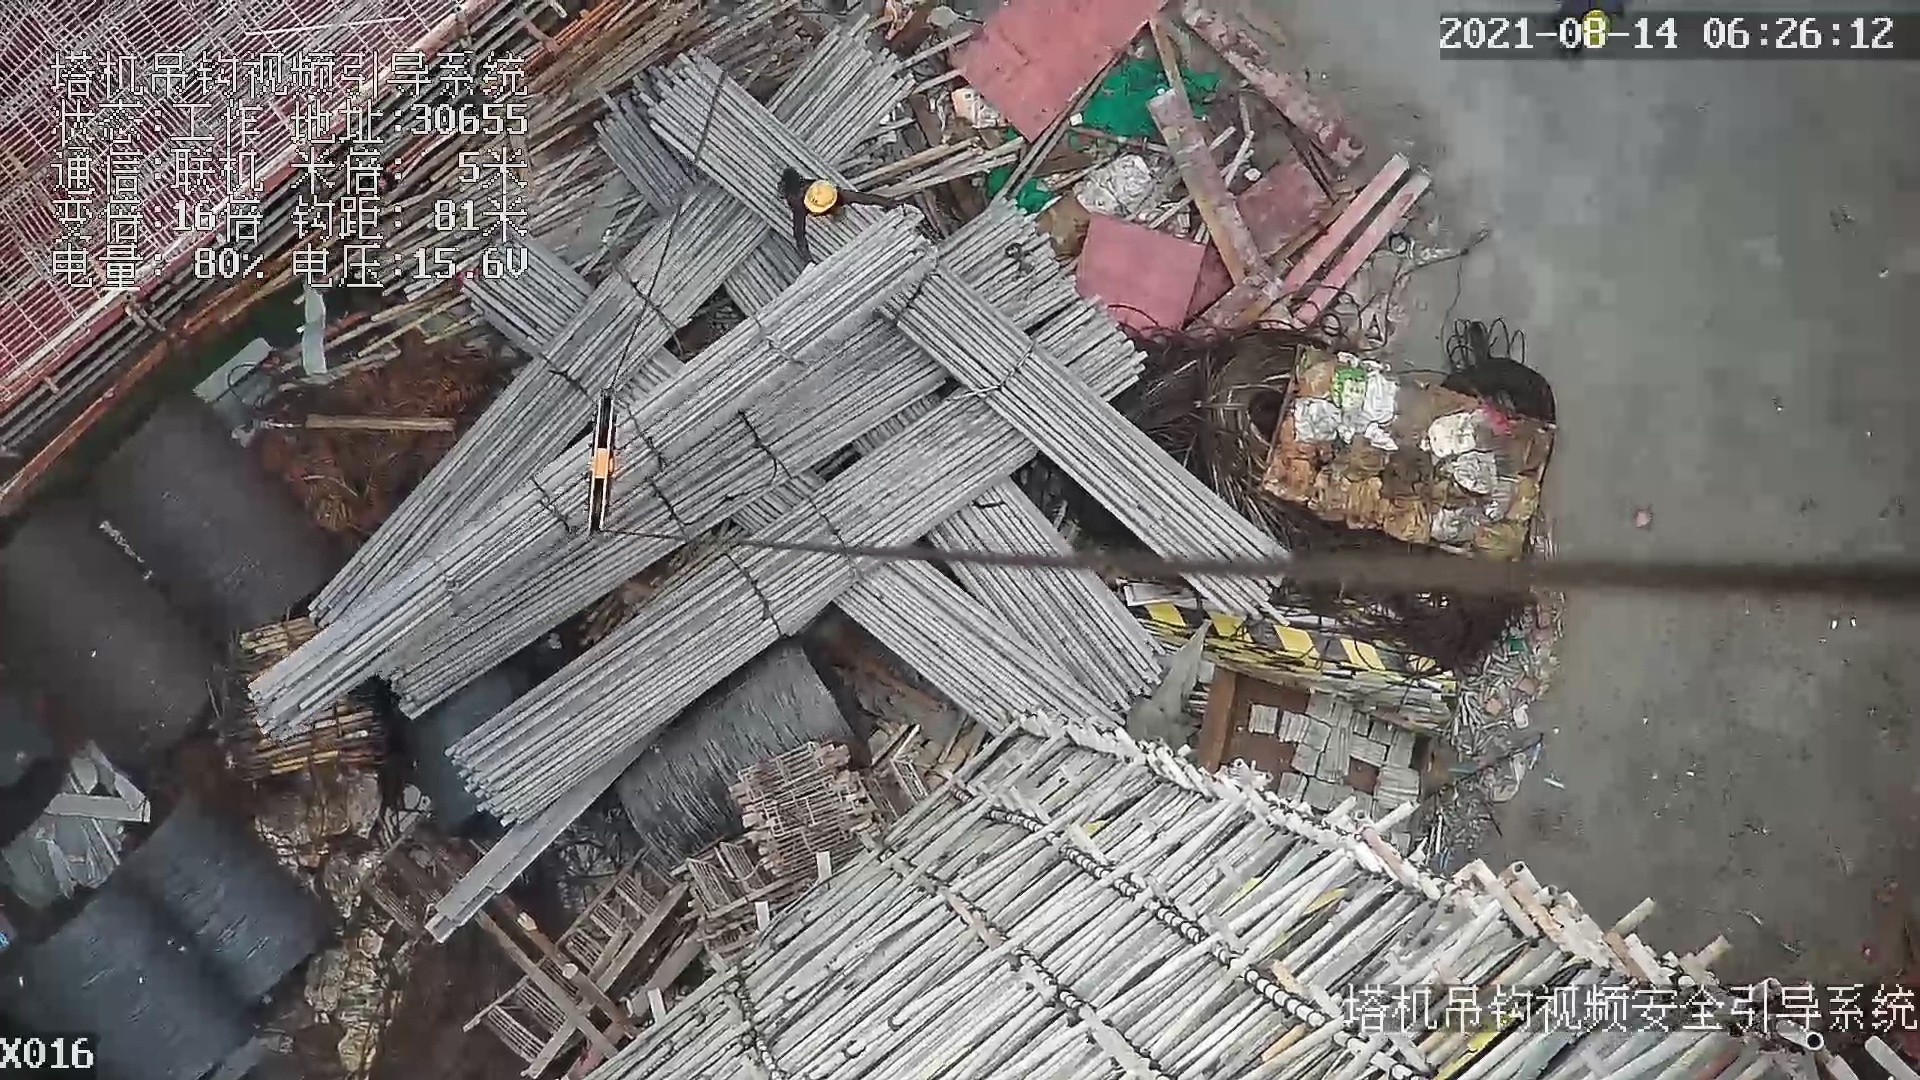helmet: (801, 180, 845, 213)
hook: (573, 389, 633, 542)
person: (774, 164, 912, 263)
